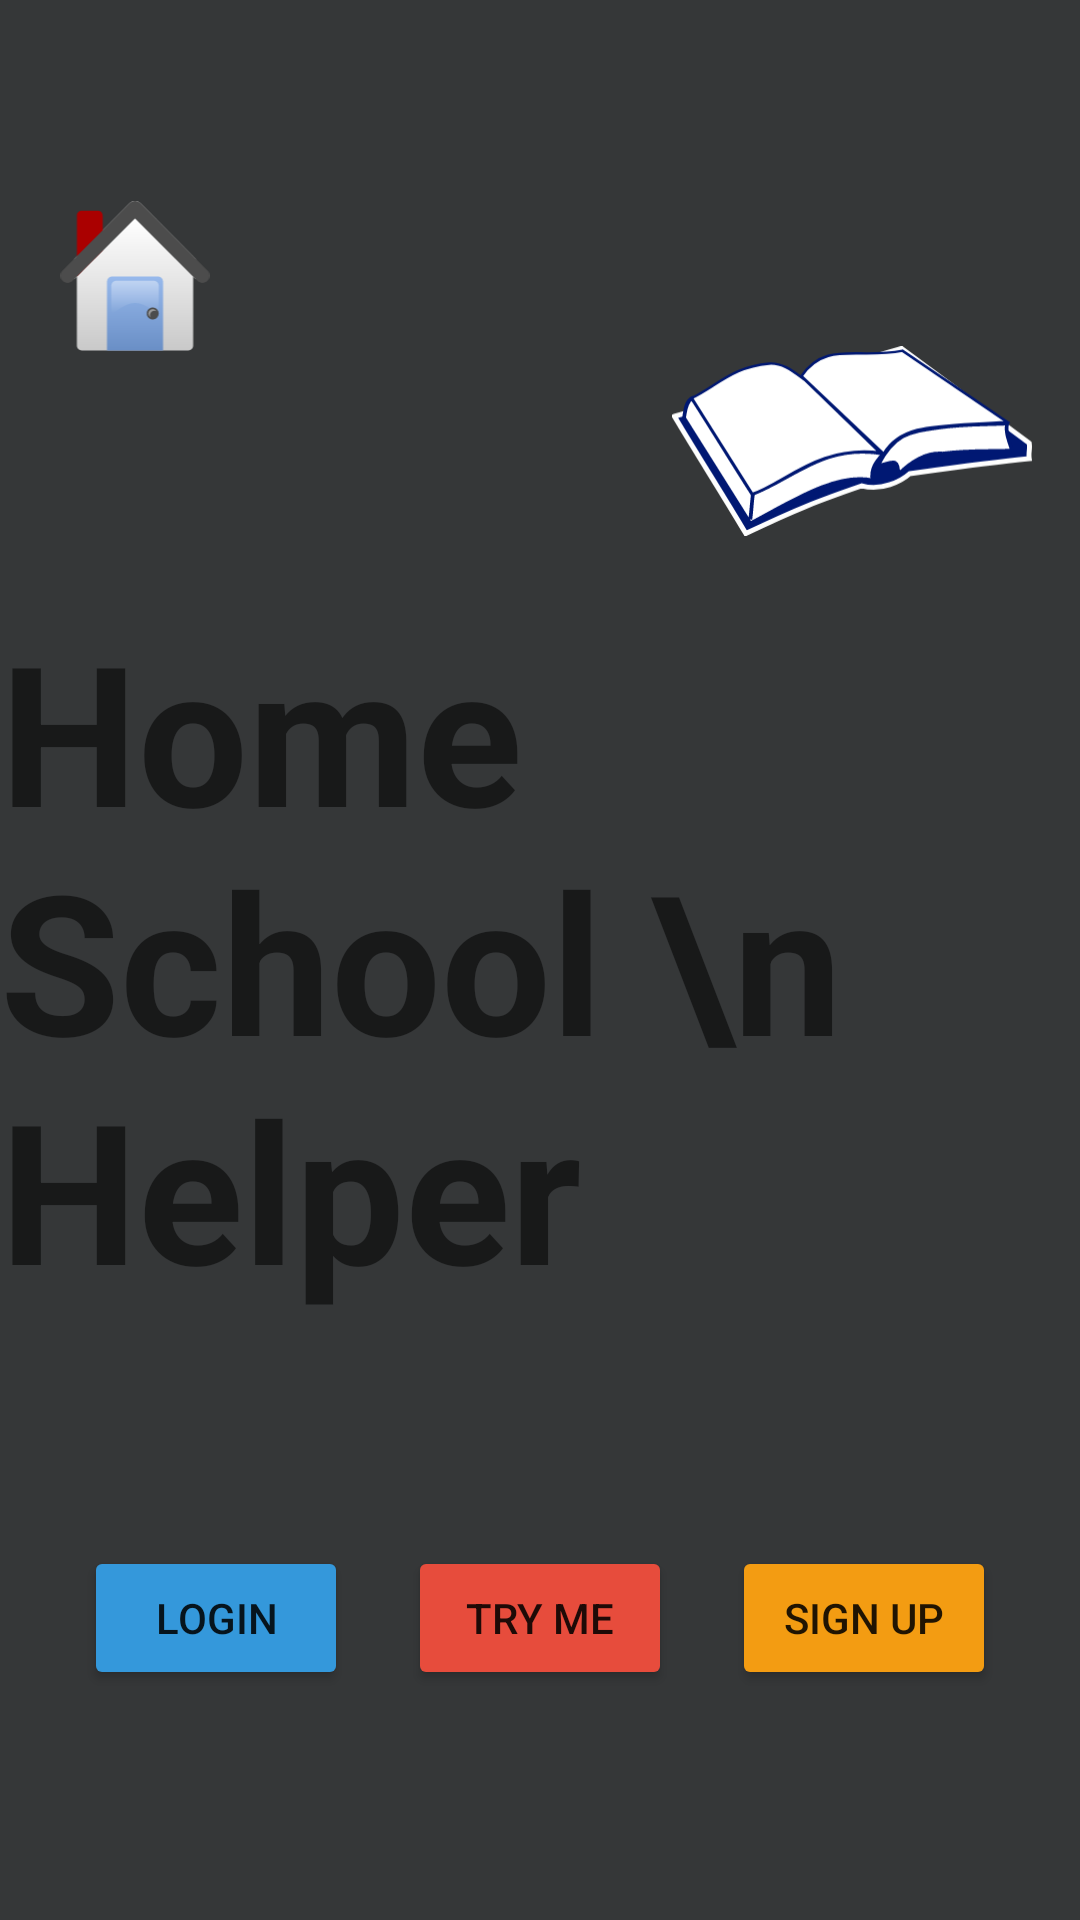

Point at icon controls on the screen. Image size 1080×1920, points as (x,y).
book: (852,441)
house: (135,276)
